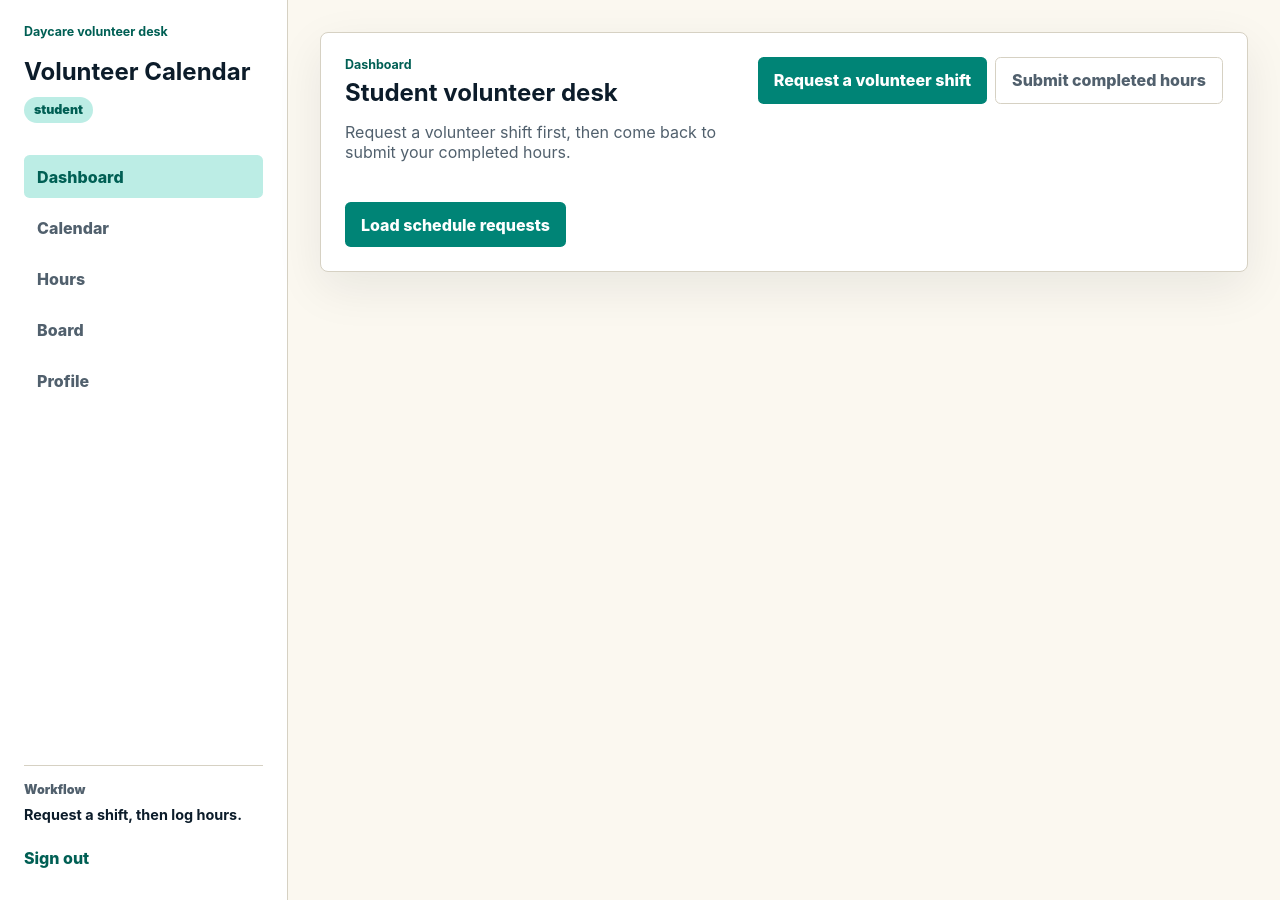
Test case: App › explains when the teacher passcode document is missing
Click the button "Profile" at (144, 381), box x1=24 y1=359 x2=263 y2=402
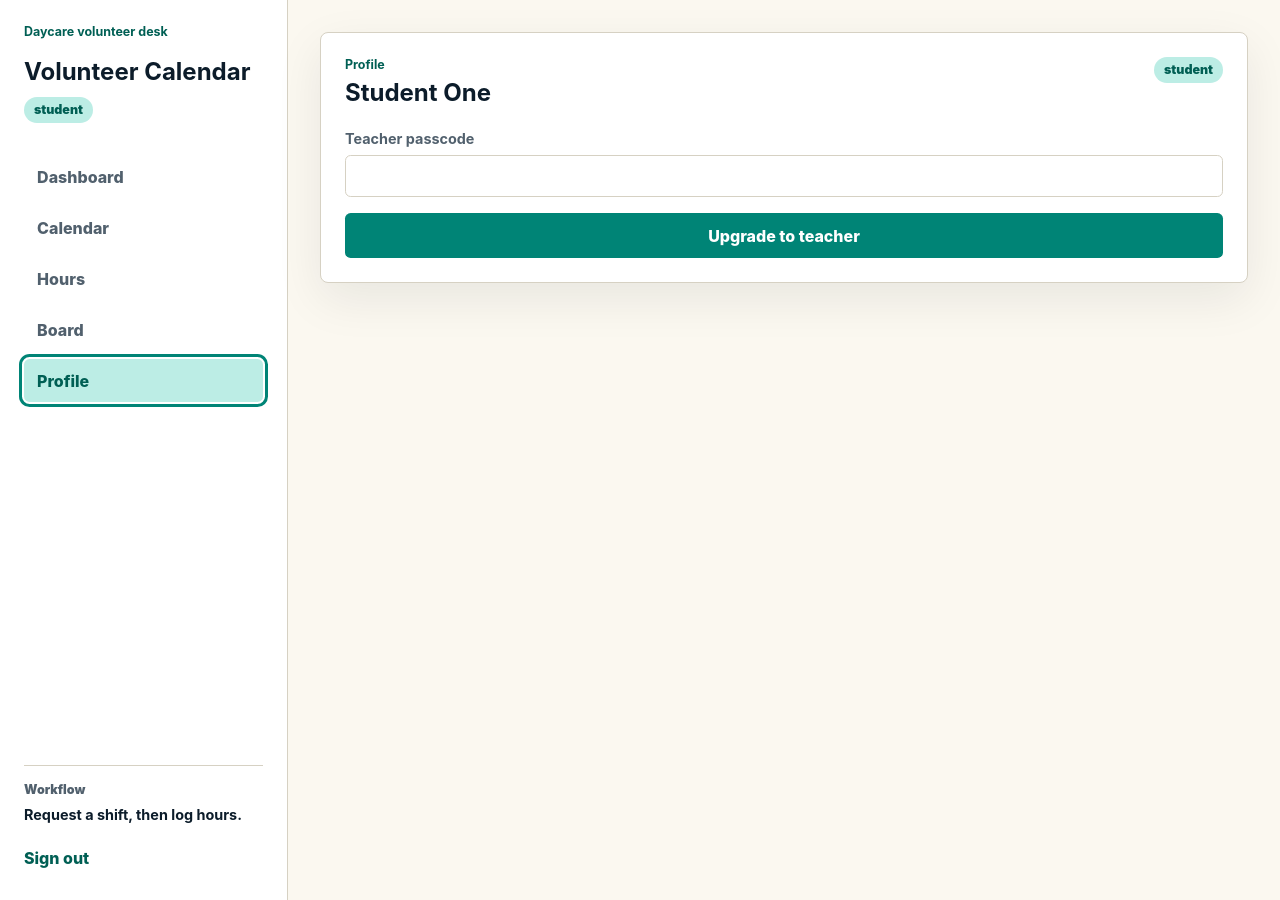
Type "qwer1234" into the password field labelled "Teacher passcode" at (784, 176), box x1=345 y1=155 x2=1223 y2=197
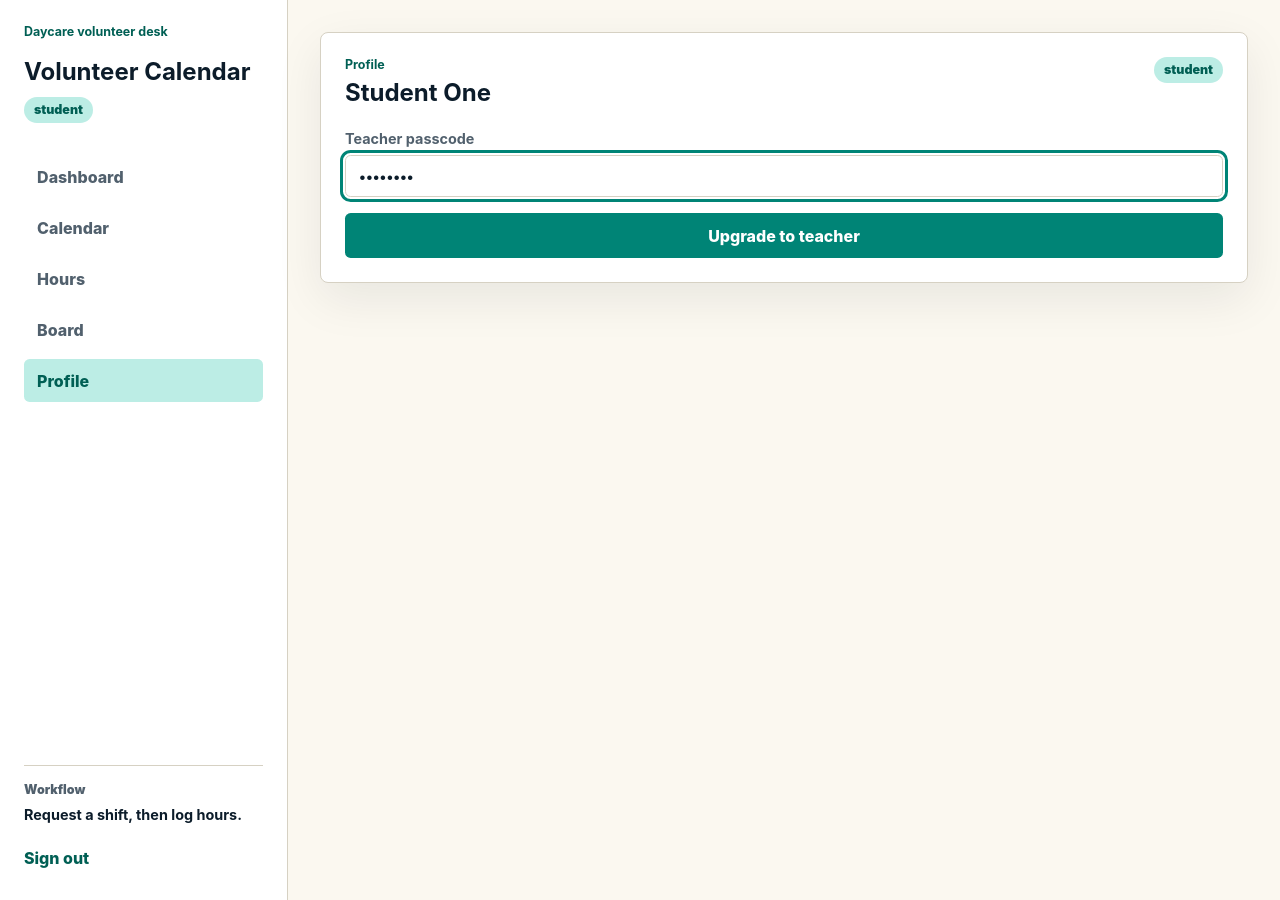
Click the button "Upgrade to teacher" at (784, 236), box x1=345 y1=213 x2=1223 y2=258
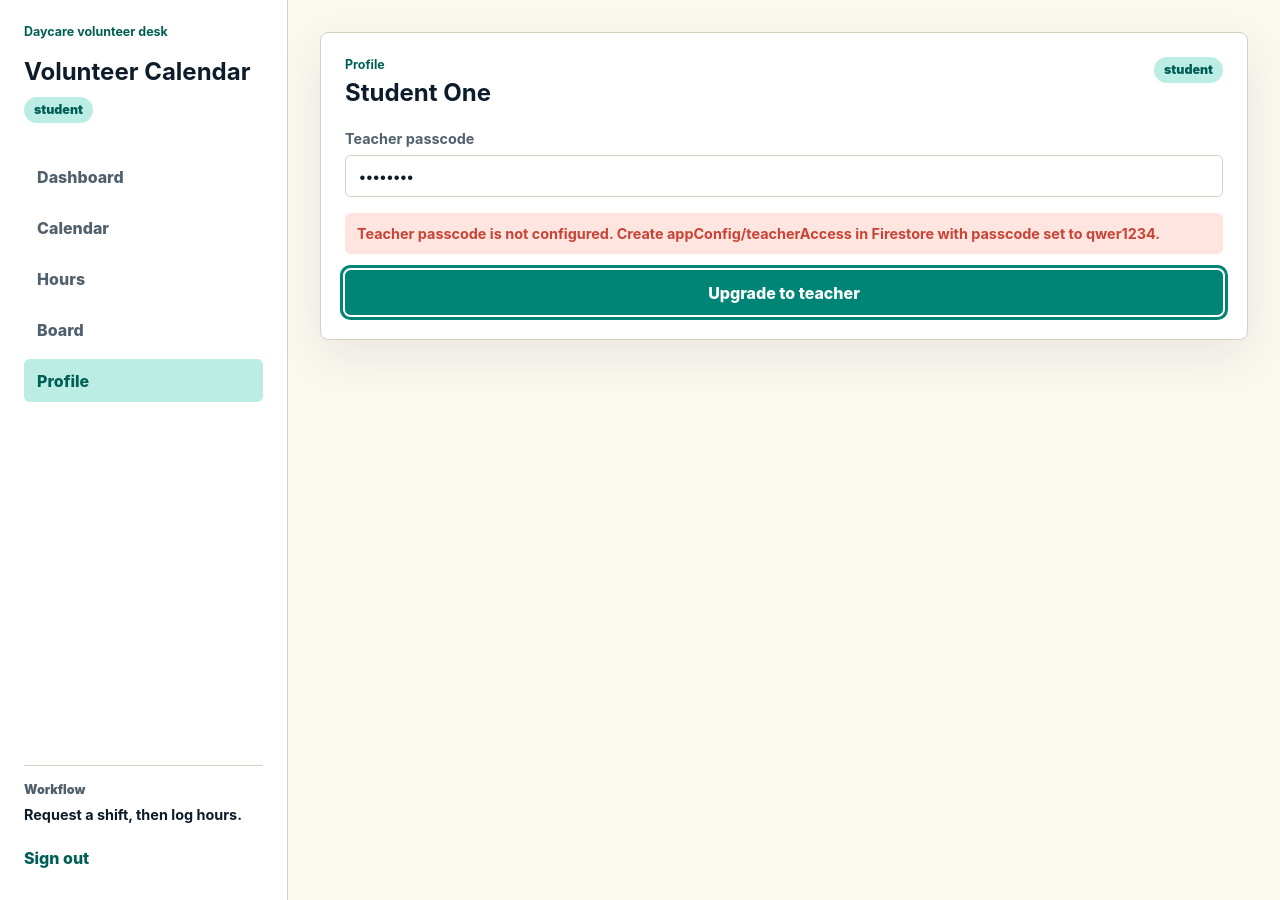
Check: the text "Teacher passcode is not configured. Create appConfig/teacherAccess in Firestore with passcode set to qwer1234." is shown, box x1=357 y1=225 x2=1160 y2=242
